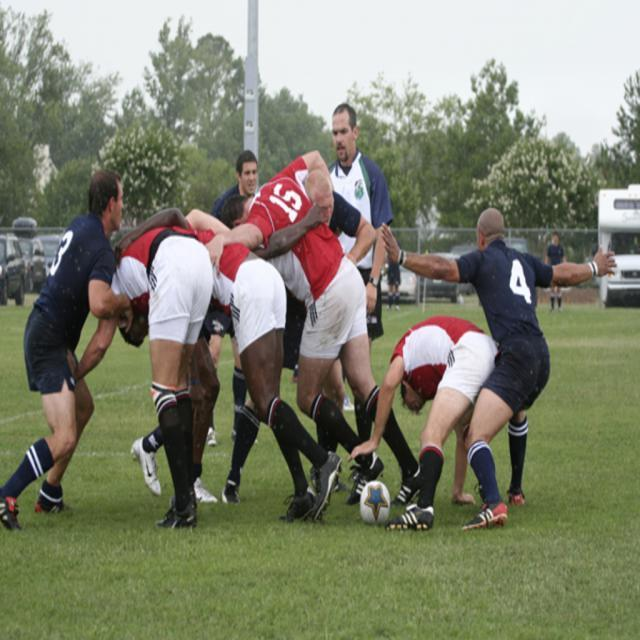football: (355, 475, 398, 521)
